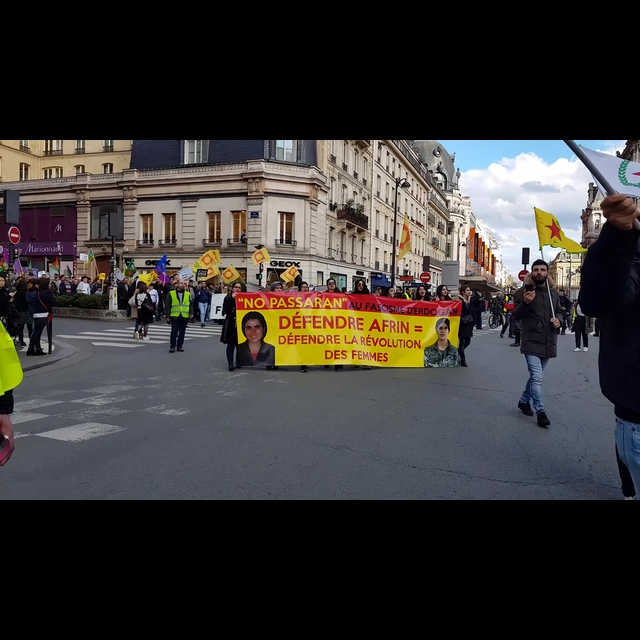YPG: (532, 206, 591, 254)
